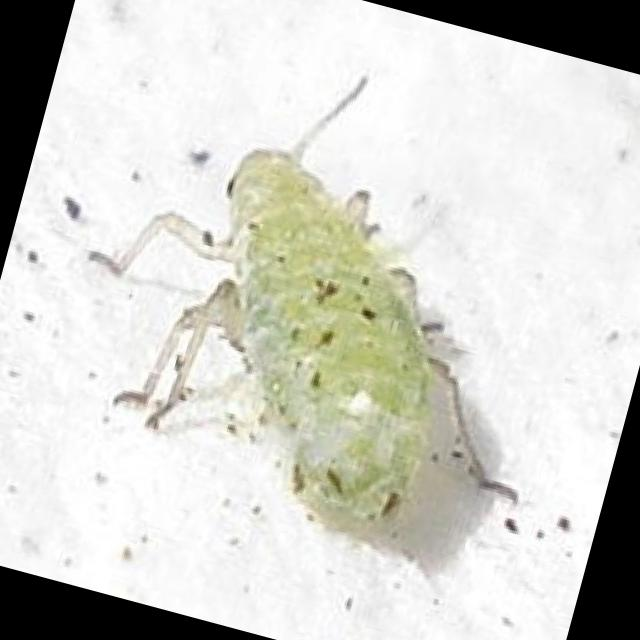aphid: (7, 40, 634, 625)
